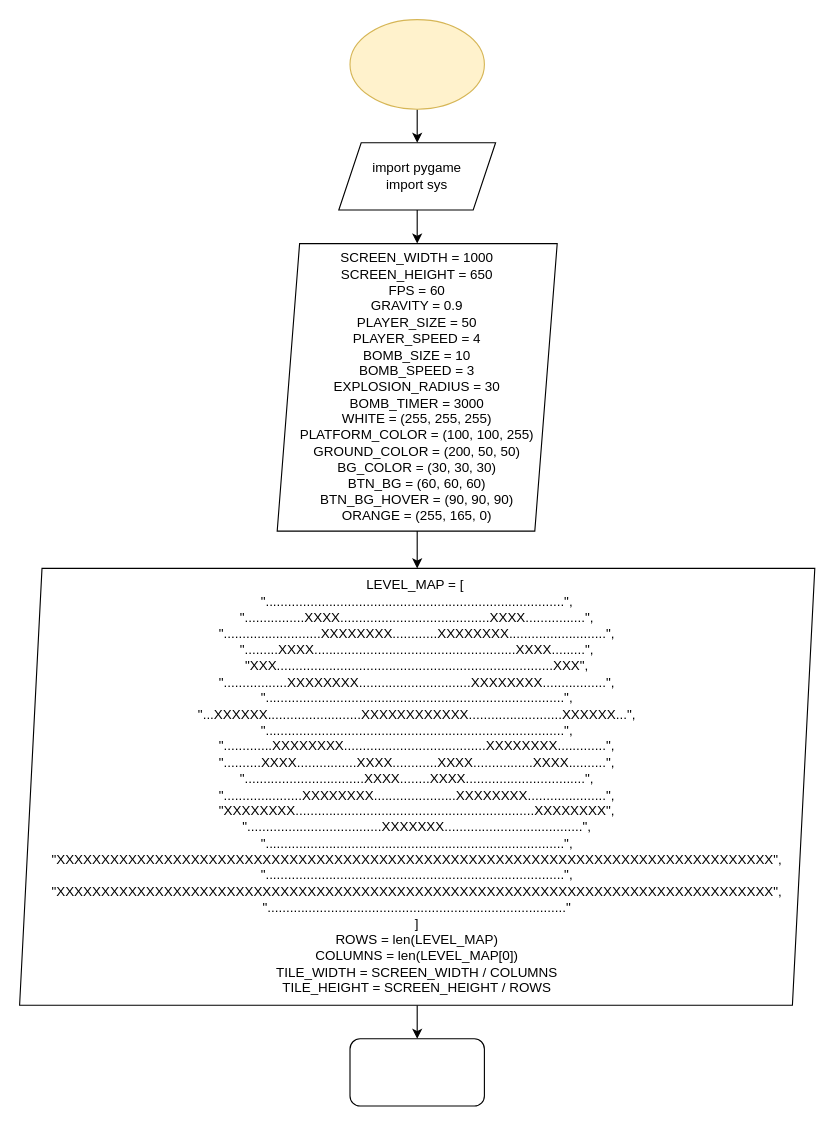
Some shapes in this 834 by 1126 pixel diagram are drawn without their labels. The shapes that lost their labels are listed below. From the top down, each one's centre as x and y in pixels, then its label:
At point 416,63: "Start".
At point 416,1072: "main()".
